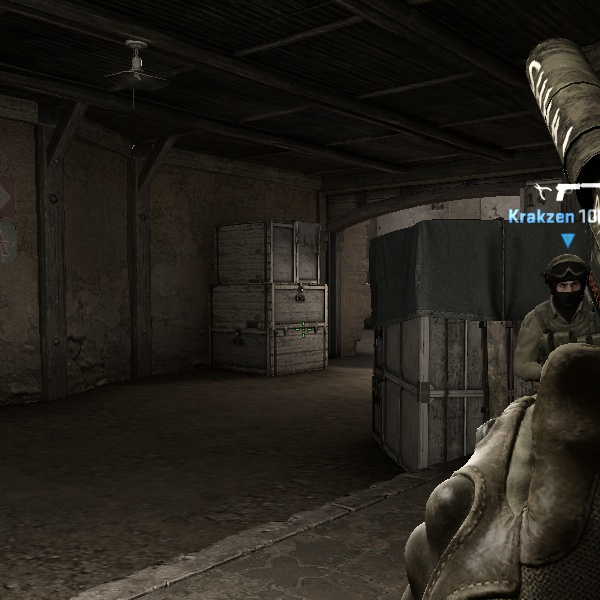ct_body: (491, 239, 600, 411)
ct_head: (532, 248, 600, 317)
